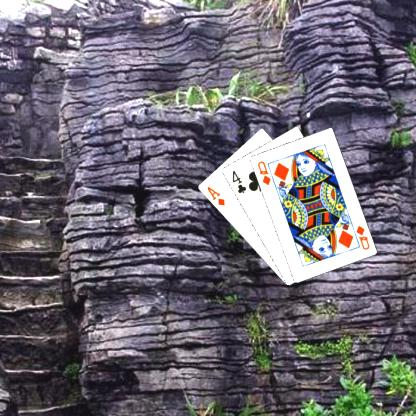4C: (229, 167, 247, 195)
AD: (204, 184, 226, 206)
QD: (353, 222, 371, 251), (254, 158, 272, 186)
